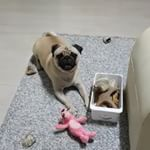puppy: (29, 28, 87, 113)
